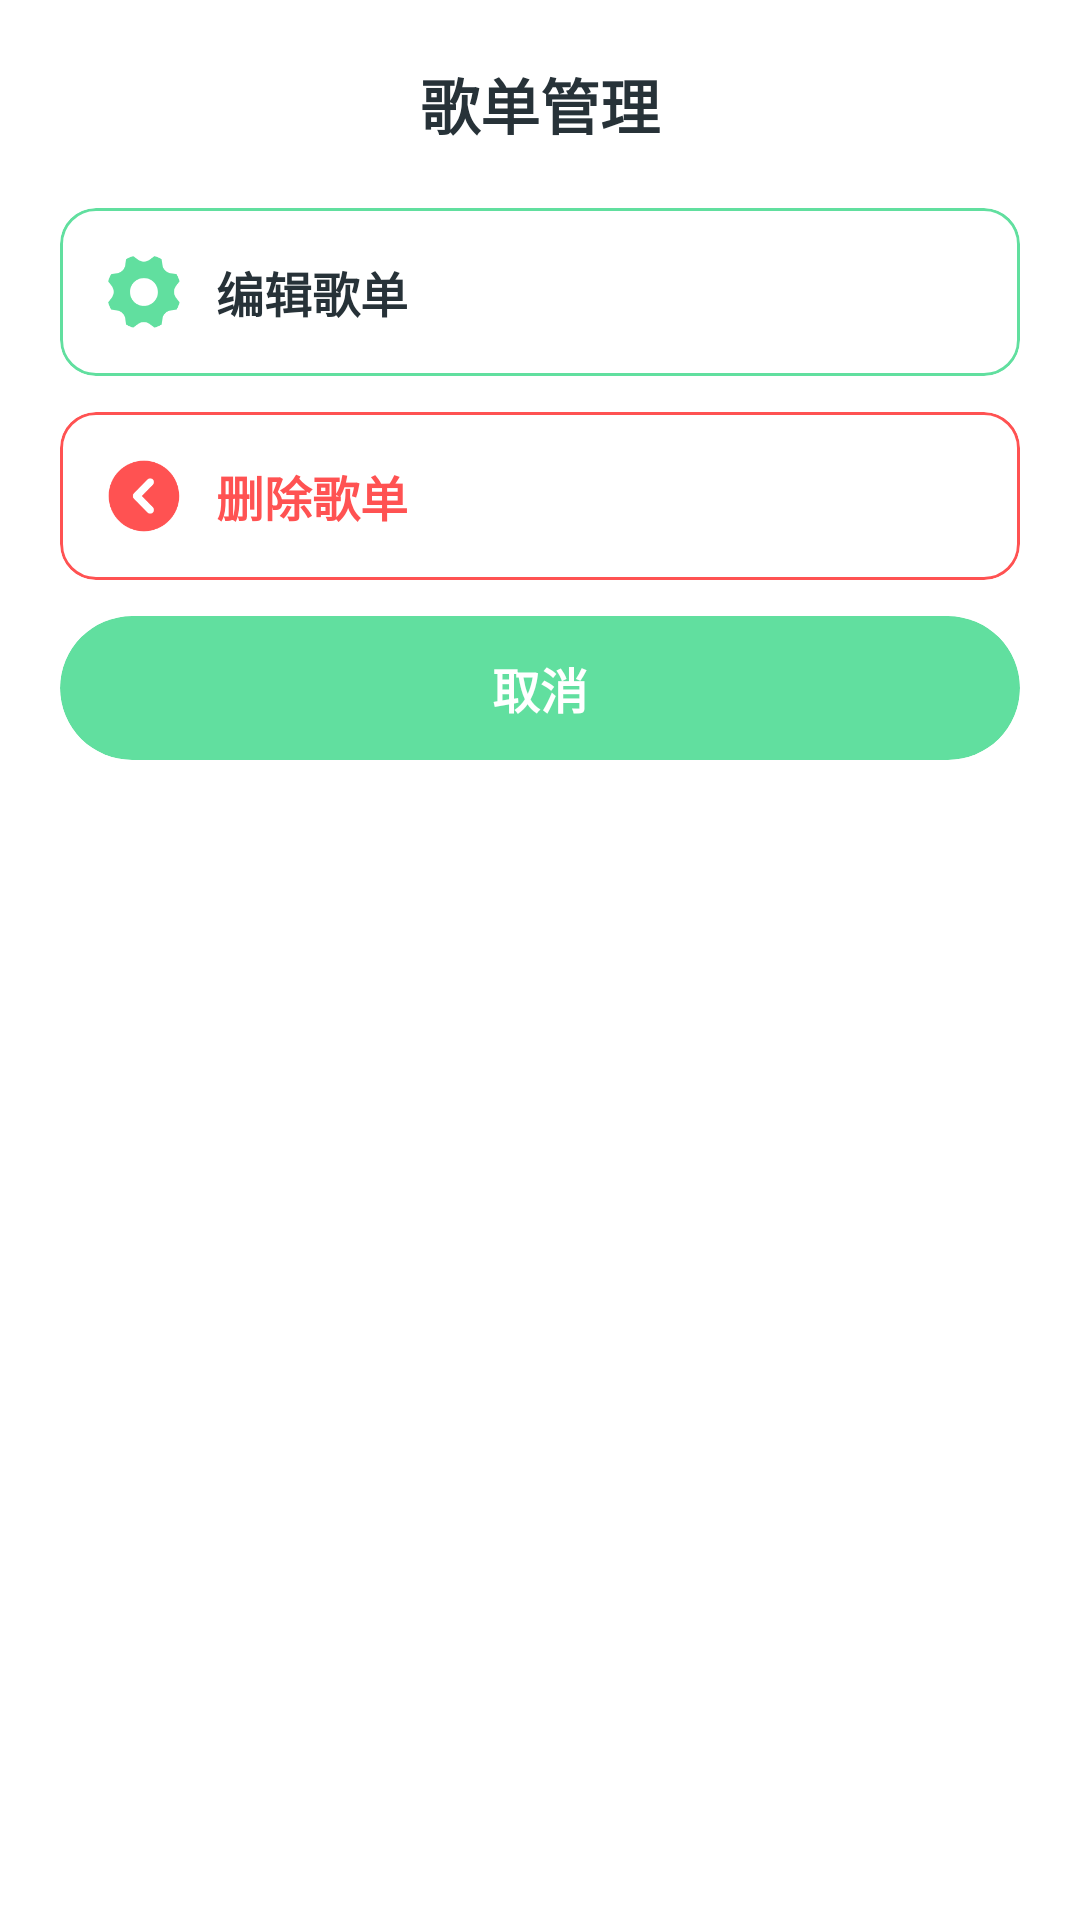

Named icons in this screenshot (1080w x 1920h) and their centers, (x=x, y=y):
settings: (x=144, y=292)
